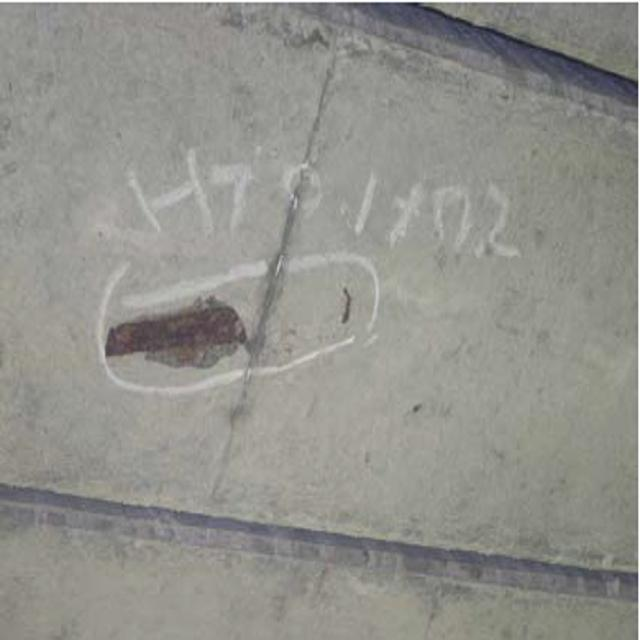spalling: (89, 270, 267, 390)
